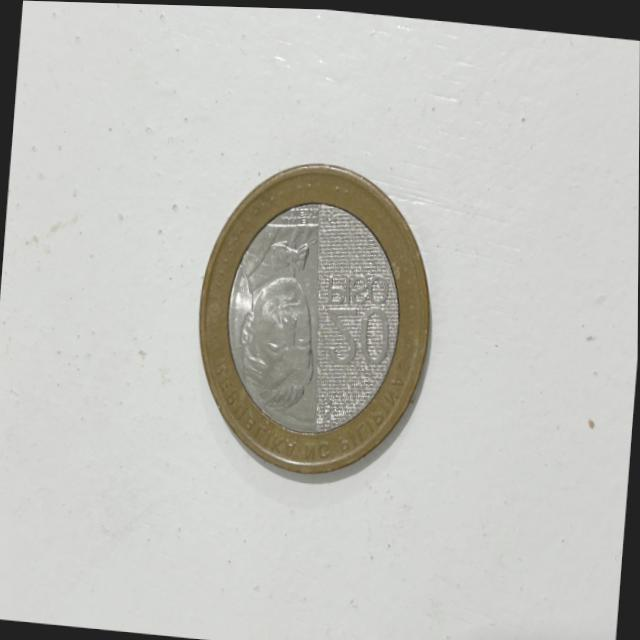20_New_Front: (307, 249, 406, 395)
